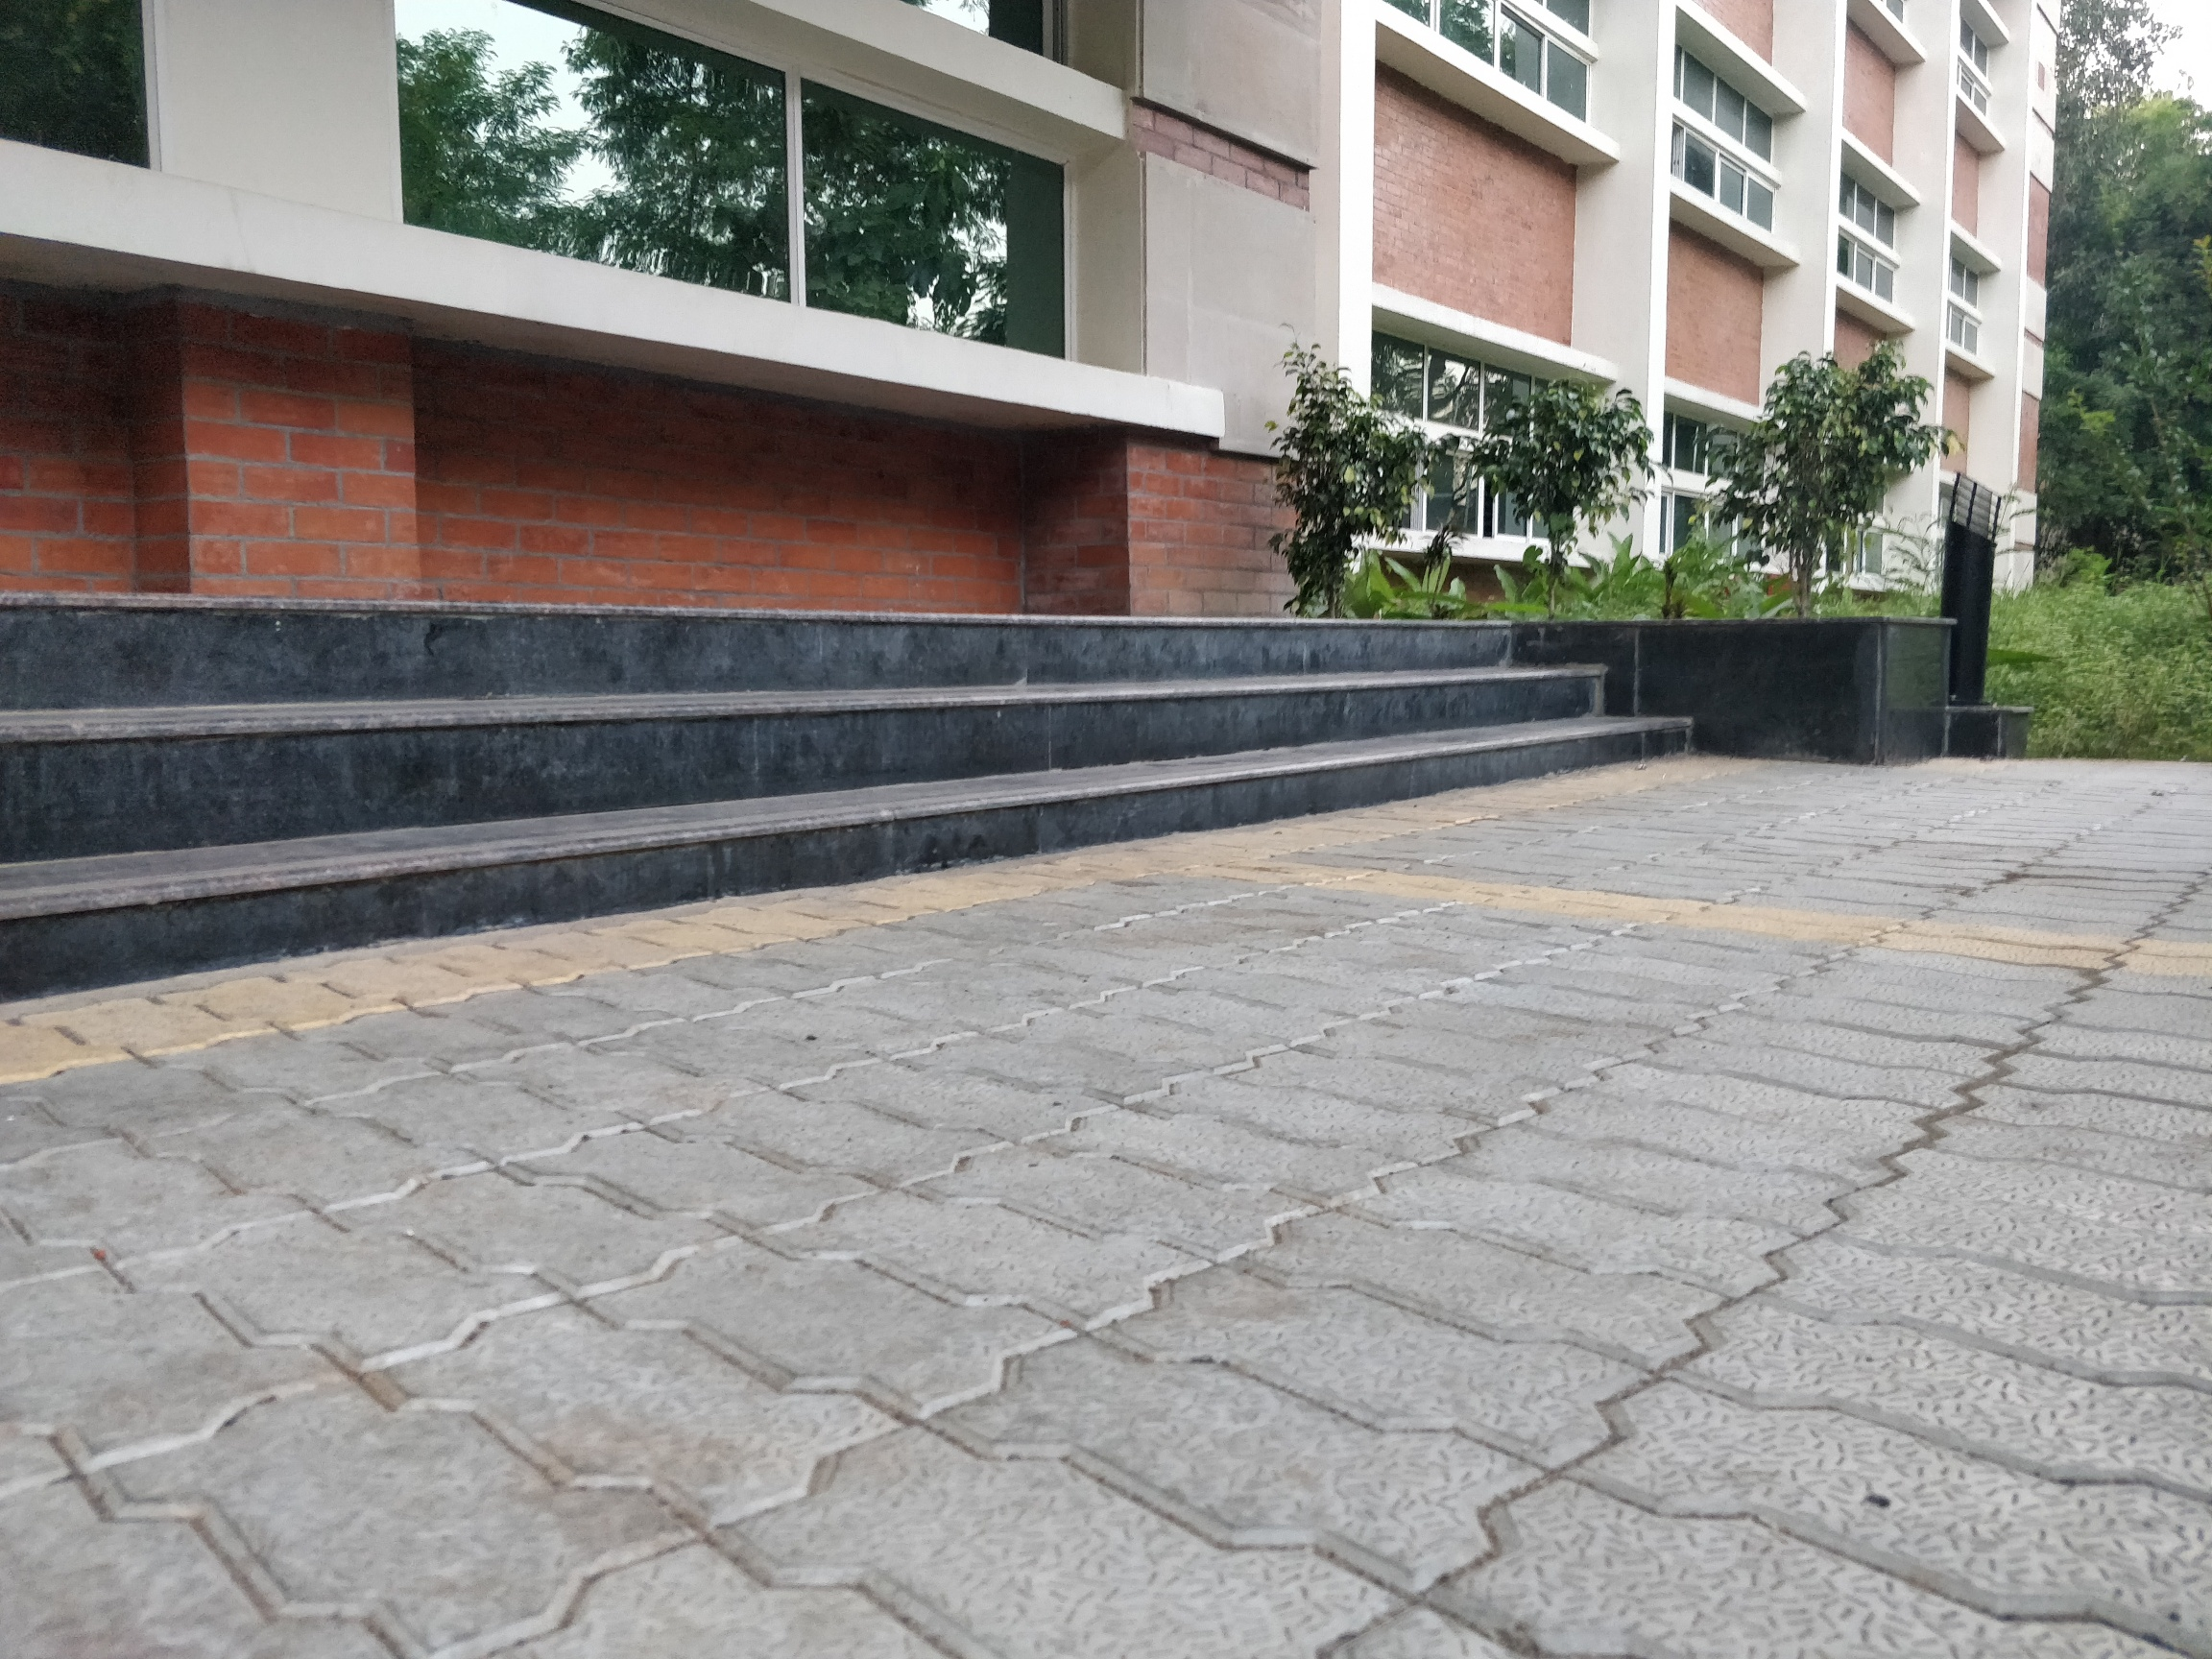stairs_up: (2, 608, 1521, 962)
